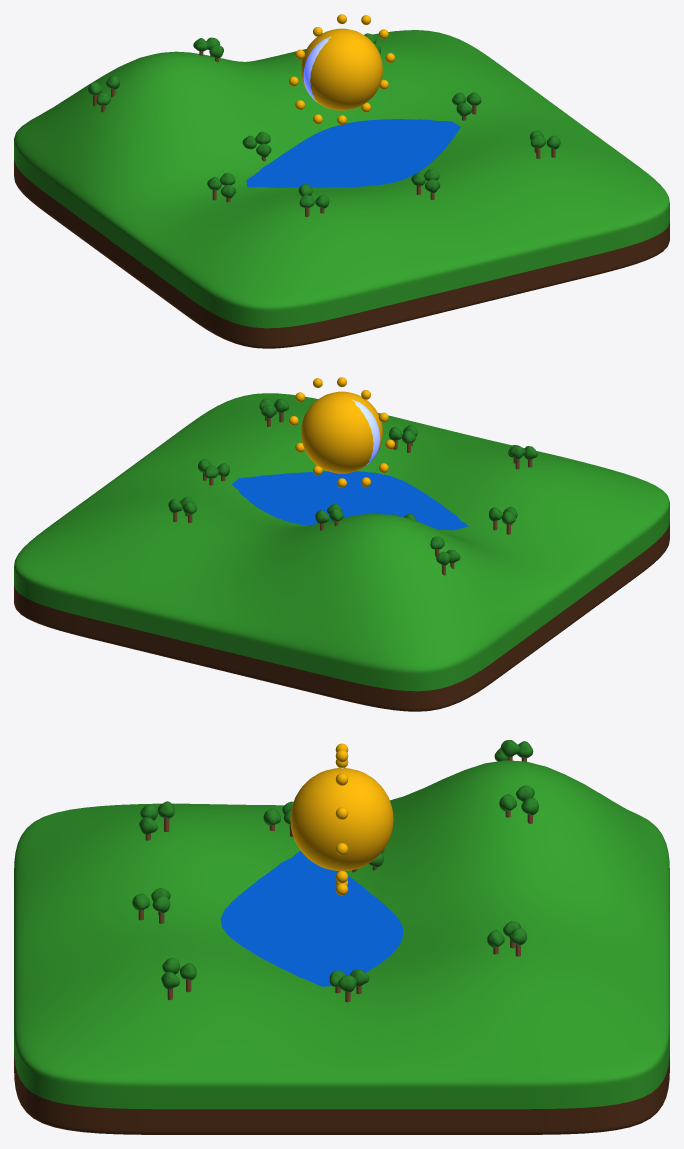
File: sun copy.glb
3 renders of one model, top to bottom at view 1: azimuth 30°, elevation 25°; view 2: azimuth 150°, elevation 25°; view 3: azimuth 270°, elevation 25°, orthographic. The views are drawn at different scales.
Visible parts, largest first — view 1: Plane, Plane.001, sun, matahari2; view 2: Plane, Plane.001, sun, matahari2; view 3: Plane, Plane.001, sun, matahari2.
Part boxes in pixels (x1,y1,x2,y2): Plane: [14, 30, 669, 348]; Plane.001: [246, 119, 460, 187]; sun: [301, 28, 382, 110]; matahari2: [289, 14, 394, 124]; Plane: [14, 393, 669, 711]; Plane.001: [232, 471, 468, 530]; sun: [301, 391, 382, 473]; matahari2: [289, 377, 394, 487]; Plane: [14, 760, 669, 1134]; Plane.001: [220, 850, 403, 986]; sun: [290, 768, 393, 871]; matahari2: [335, 743, 348, 895].
Bounding box in the file's own units: 12.68 × 5.36 × 12.68.
